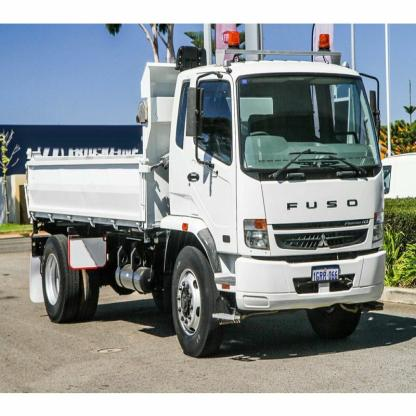truck: (26, 32, 389, 352)
